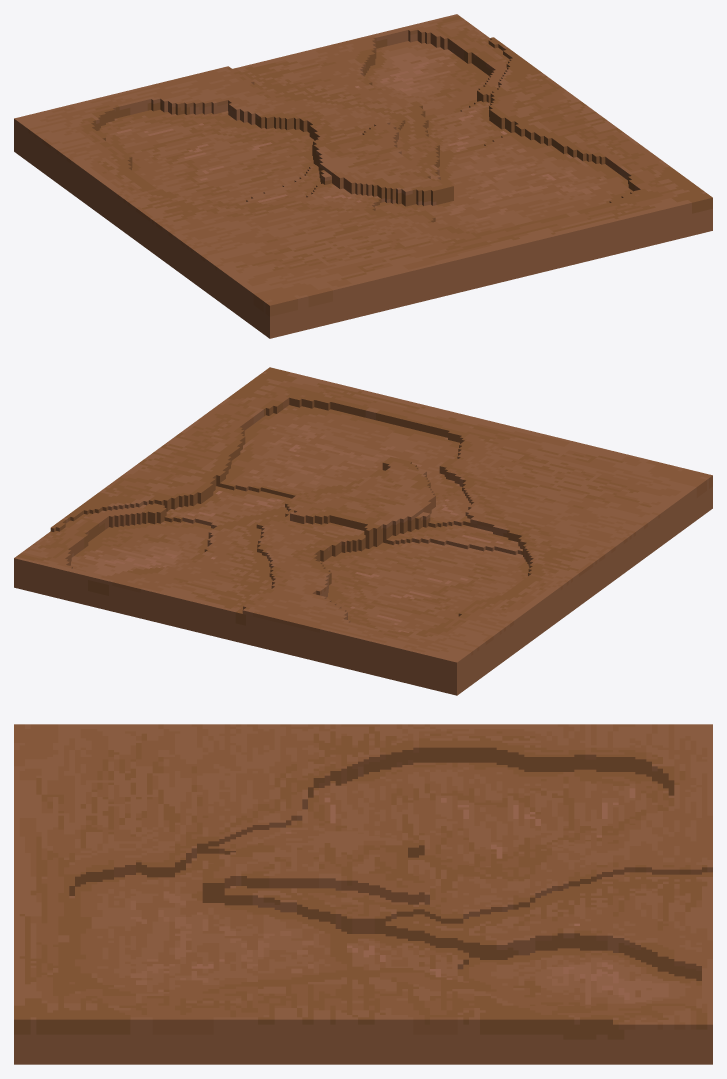
Rendered from world1_Ground 1.fbx.
3 renders of one model, top to bottom at view 1: azimuth 30°, elevation 25°; view 2: azimuth 150°, elevation 25°; view 3: azimuth 270°, elevation 25°, orthographic. The views are drawn at different scales.
Parts seen in each view (by area): view 1: terrain_monde1:Mesh; view 2: terrain_monde1:Mesh; view 3: terrain_monde1:Mesh.
Part boxes in pixels (x1,y1,x2,y2): terrain_monde1:Mesh: (14,14,712,338); terrain_monde1:Mesh: (14,367,712,695); terrain_monde1:Mesh: (14,724,712,1064).
Bounding box in the file's own units: 571 × 49.82 × 571.
